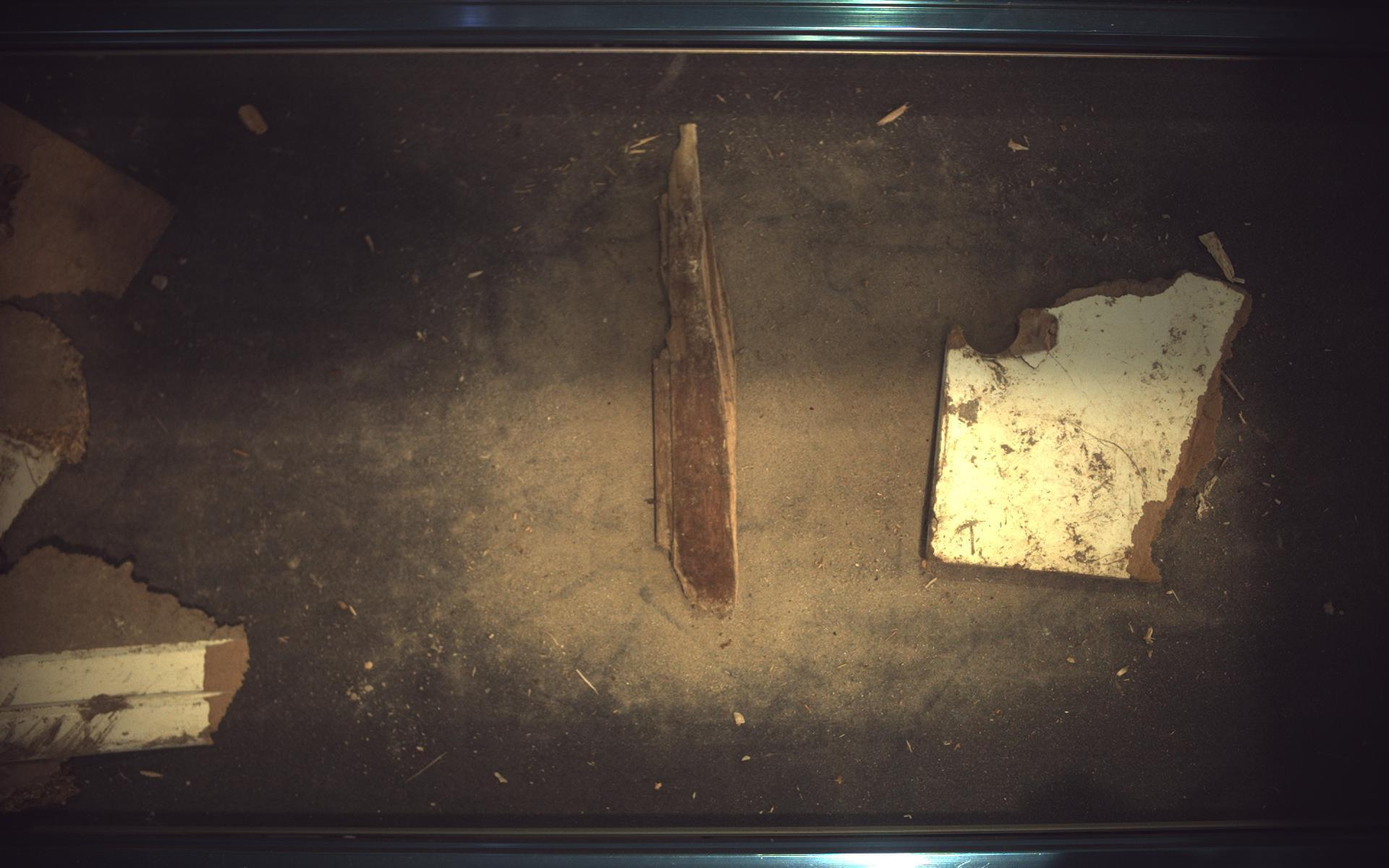wood: (930, 273, 1254, 583), (654, 122, 739, 614)
